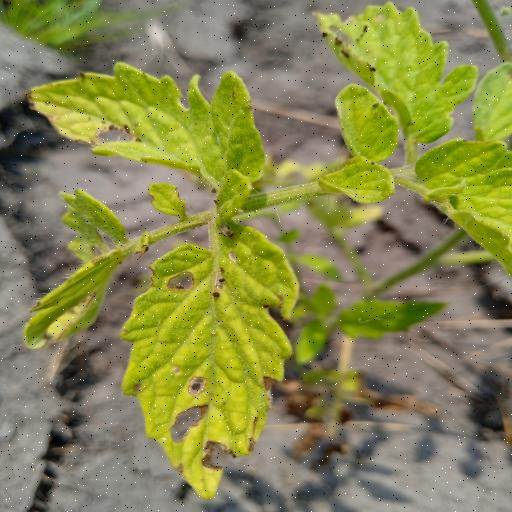Tomato_Brown_Spots: (122, 238, 299, 500), (22, 58, 274, 207), (308, 1, 482, 156), (23, 188, 135, 354)
